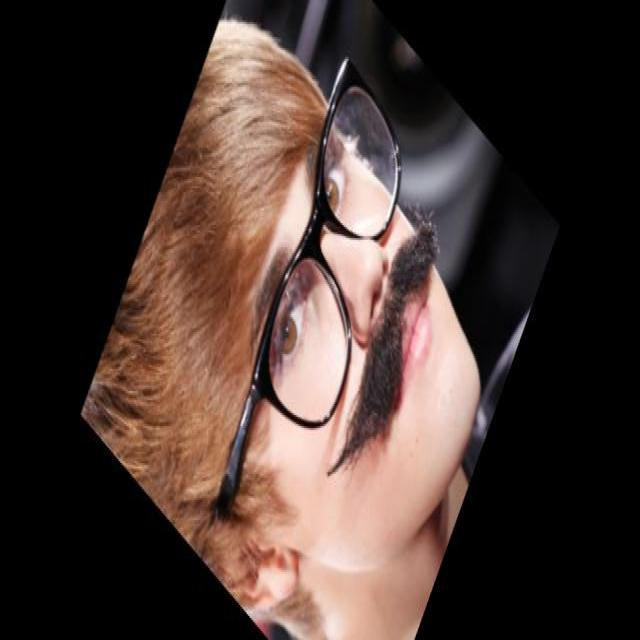glasses: (198, 52, 428, 571)
